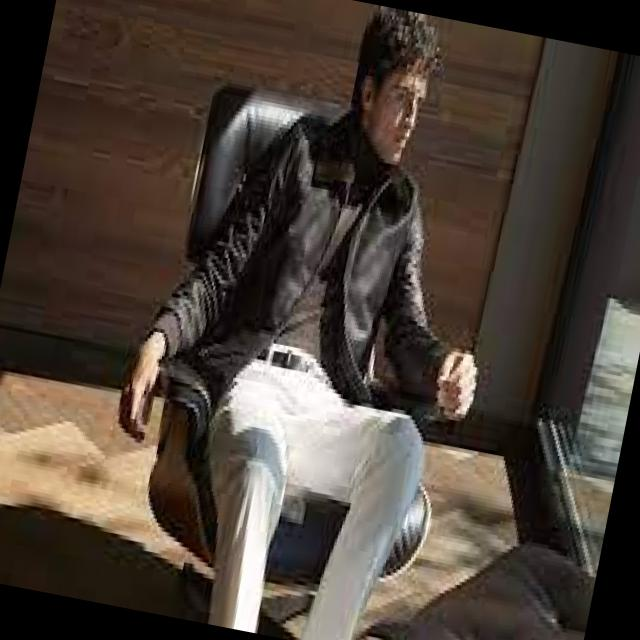Jacket: (115, 110, 530, 500)
